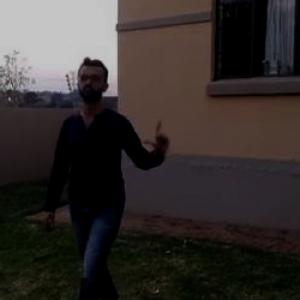land_hand: (139, 113, 174, 157)
